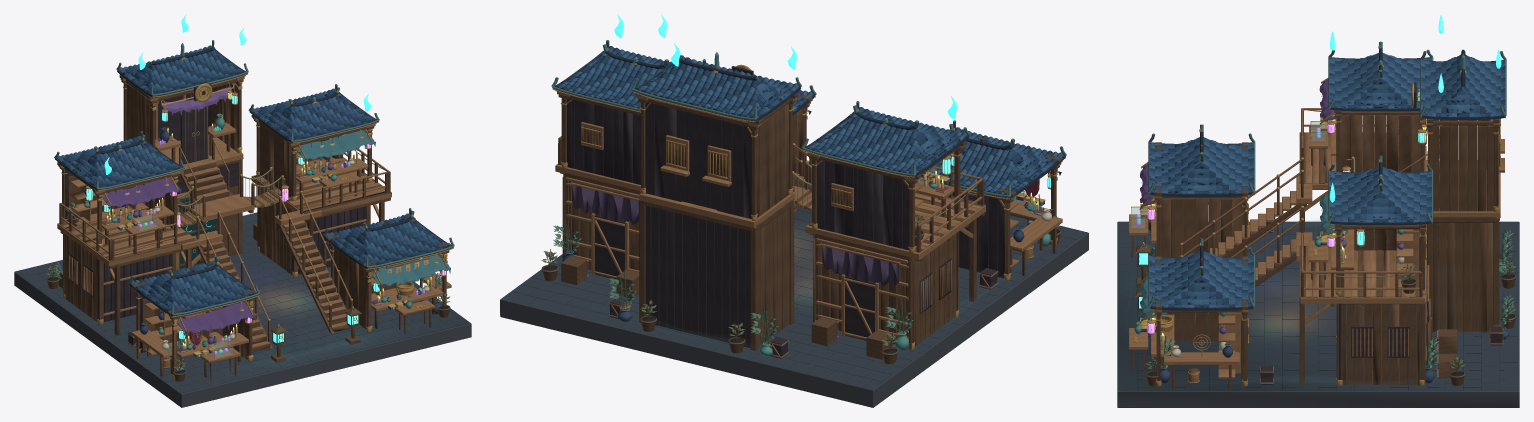
The model's file is ghost-lod0-422f6179dac8.glb.
3 renders of one model, left to right at view 1: azimuth 30°, elevation 25°; view 2: azimuth 150°, elevation 25°; view 3: azimuth 270°, elevation 25°, orthographic. The views are drawn at different scales.
Visible parts, largest first — view 1: SM_GS5_MAT_GS5_DarkTimber_GS5_GroundDoorHinge_1.004, SM_GS5_MAT_GS5_WoodTrim_GS5_MainDoorHinge_1.004, SM_GS5_MAT_GS5_PavingWithBakedLanternPools.004, SM_GS5_MAT_GS5_InsetTimber_GS5_MainDoorHinge_1.004, SM_GS5_MAT_GS5_DarkFoundation.004, SM_GS5_MAT_GS5_SourceGlazedBlueTile2, SM_GS5_MAT_GS5_SourceGlazedBlueTile3, SM_GS5_MAT_GS5_SourceGlazedBlueTile1, SM_GS5_MAT_GS5_SourceGlazedBlueTile0, SM_GS5_MAT_GS5_AgedBronze_GS5_GroundDoorHinge_1.004, SM_GS5_MAT_GS5_PurpleCloth.004, SM_GS5_MAT_GS5_TealCloth.004 (+13 smaller); view 2: SM_GS5_MAT_GS5_InsetTimber_GS5_MainDoorHinge_1.004, SM_GS5_MAT_GS5_DarkTimber_GS5_GroundDoorHinge_1.004, SM_GS5_MAT_GS5_PavingWithBakedLanternPools.004, SM_GS5_MAT_GS5_WoodTrim_GS5_MainDoorHinge_1.004, SM_GS5_MAT_GS5_DarkFoundation.004, SM_GS5_MAT_GS5_SourceGlazedBlueTile3, SM_GS5_MAT_GS5_SourceGlazedBlueTile2, SM_GS5_MAT_GS5_SourceGlazedBlueTile1, SM_GS5_MAT_GS5_SourceGlazedBlueTile0, SM_GS5_MAT_GS5_BackTornPurpleCloth.002, SM_GS5_MAT_GS5_AgedBronze_GS5_GroundDoorHinge_1.004, SM_GS5_MAT_GS5_AgedJadeRoofEdge.004 (+6 smaller); view 3: SM_GS5_MAT_GS5_DarkTimber_GS5_GroundDoorHinge_1.004, SM_GS5_MAT_GS5_PavingWithBakedLanternPools.004, SM_GS5_MAT_GS5_WoodTrim_GS5_MainDoorHinge_1.004, SM_GS5_MAT_GS5_SourceGlazedBlueTile0, SM_GS5_MAT_GS5_SourceGlazedBlueTile3, SM_GS5_MAT_GS5_SourceGlazedBlueTile1, SM_GS5_MAT_GS5_SourceGlazedBlueTile2, SM_GS5_MAT_GS5_DarkFoundation.004, SM_GS5_MAT_GS5_Grout.004, SM_GS5_MAT_GS5_AgedBronze_GS5_GroundDoorHinge_1.004, SM_GS5_MAT_GS5_InsetTimber_GS5_MainDoorHinge_1.004, SM_GS5_MAT_GS5_AgedJadeRoofEdge.004 (+10 smaller).
Part boxes in pixels (bbox=[...]): SM_GS5_MAT_GS5_DarkTimber_GS5_GroundDoorHinge_1.004: bbox=[46, 57, 451, 381]; SM_GS5_MAT_GS5_WoodTrim_GS5_MainDoorHinge_1.004: bbox=[57, 76, 451, 368]; SM_GS5_MAT_GS5_PavingWithBakedLanternPools.004: bbox=[15, 212, 469, 393]; SM_GS5_MAT_GS5_InsetTimber_GS5_MainDoorHinge_1.004: bbox=[65, 83, 365, 352]; SM_GS5_MAT_GS5_DarkFoundation.004: bbox=[14, 272, 471, 407]; SM_GS5_MAT_GS5_SourceGlazedBlueTile2: bbox=[58, 48, 445, 313]; SM_GS5_MAT_GS5_SourceGlazedBlueTile3: bbox=[61, 47, 447, 312]; SM_GS5_MAT_GS5_SourceGlazedBlueTile1: bbox=[57, 49, 449, 313]; SM_GS5_MAT_GS5_SourceGlazedBlueTile0: bbox=[64, 45, 451, 311]; SM_GS5_MAT_GS5_AgedBronze_GS5_GroundDoorHinge_1.004: bbox=[55, 71, 453, 379]; SM_GS5_MAT_GS5_PurpleCloth.004: bbox=[102, 138, 381, 352]; SM_GS5_MAT_GS5_TealCloth.004: bbox=[296, 130, 450, 288]; SM_GS5_MAT_GS5_InsetTimber_GS5_MainDoorHinge_1.004: bbox=[567, 66, 1004, 358]; SM_GS5_MAT_GS5_DarkTimber_GS5_GroundDoorHinge_1.004: bbox=[541, 91, 1062, 363]; SM_GS5_MAT_GS5_PavingWithBakedLanternPools.004: bbox=[501, 206, 1087, 389]; SM_GS5_MAT_GS5_WoodTrim_GS5_MainDoorHinge_1.004: bbox=[555, 91, 1062, 358]; SM_GS5_MAT_GS5_DarkFoundation.004: bbox=[500, 232, 1088, 407]; SM_GS5_MAT_GS5_SourceGlazedBlueTile3: bbox=[560, 47, 1057, 193]; SM_GS5_MAT_GS5_SourceGlazedBlueTile2: bbox=[561, 49, 1059, 194]; SM_GS5_MAT_GS5_SourceGlazedBlueTile1: bbox=[557, 49, 1063, 194]; SM_GS5_MAT_GS5_SourceGlazedBlueTile0: bbox=[555, 46, 1053, 192]; SM_GS5_MAT_GS5_BackTornPurpleCloth.002: bbox=[572, 185, 898, 286]; SM_GS5_MAT_GS5_AgedBronze_GS5_GroundDoorHinge_1.004: bbox=[552, 48, 1065, 349]; SM_GS5_MAT_GS5_AgedJadeRoofEdge.004: bbox=[551, 40, 1066, 197]; SM_GS5_MAT_GS5_DarkTimber_GS5_GroundDoorHinge_1.004: bbox=[1131, 108, 1516, 389]; SM_GS5_MAT_GS5_PavingWithBakedLanternPools.004: bbox=[1118, 221, 1518, 391]; SM_GS5_MAT_GS5_WoodTrim_GS5_MainDoorHinge_1.004: bbox=[1129, 78, 1504, 383]; SM_GS5_MAT_GS5_SourceGlazedBlueTile0: bbox=[1149, 53, 1505, 307]; SM_GS5_MAT_GS5_SourceGlazedBlueTile3: bbox=[1149, 54, 1505, 308]; SM_GS5_MAT_GS5_SourceGlazedBlueTile1: bbox=[1149, 55, 1505, 308]; SM_GS5_MAT_GS5_SourceGlazedBlueTile2: bbox=[1149, 55, 1505, 308]; SM_GS5_MAT_GS5_DarkFoundation.004: bbox=[1117, 222, 1519, 407]; SM_GS5_MAT_GS5_Grout.004: bbox=[1119, 222, 1517, 390]; SM_GS5_MAT_GS5_AgedBronze_GS5_GroundDoorHinge_1.004: bbox=[1131, 45, 1506, 386]; SM_GS5_MAT_GS5_InsetTimber_GS5_MainDoorHinge_1.004: bbox=[1242, 82, 1502, 384]; SM_GS5_MAT_GS5_AgedJadeRoofEdge.004: bbox=[1148, 41, 1506, 307].
Bounding box in the file's own units: 10 × 7.83 × 10.
57 materials, 9 textured.
